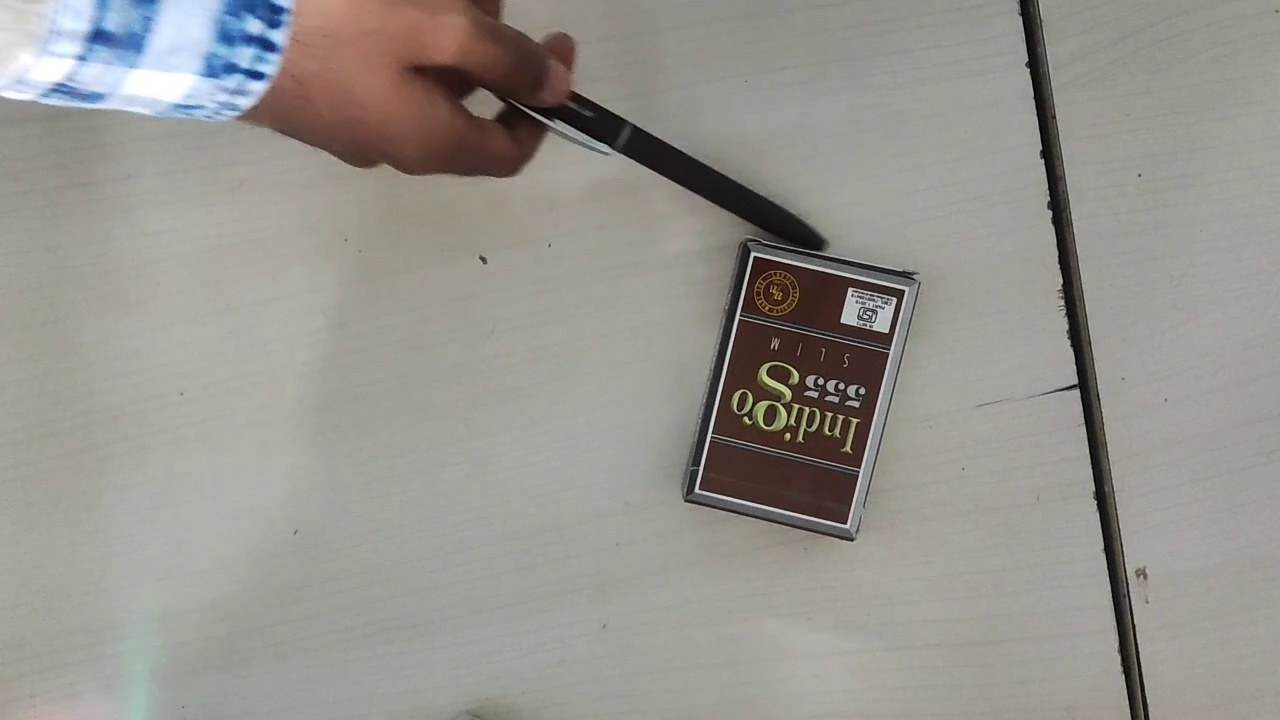BEX: (693, 255, 905, 527)
